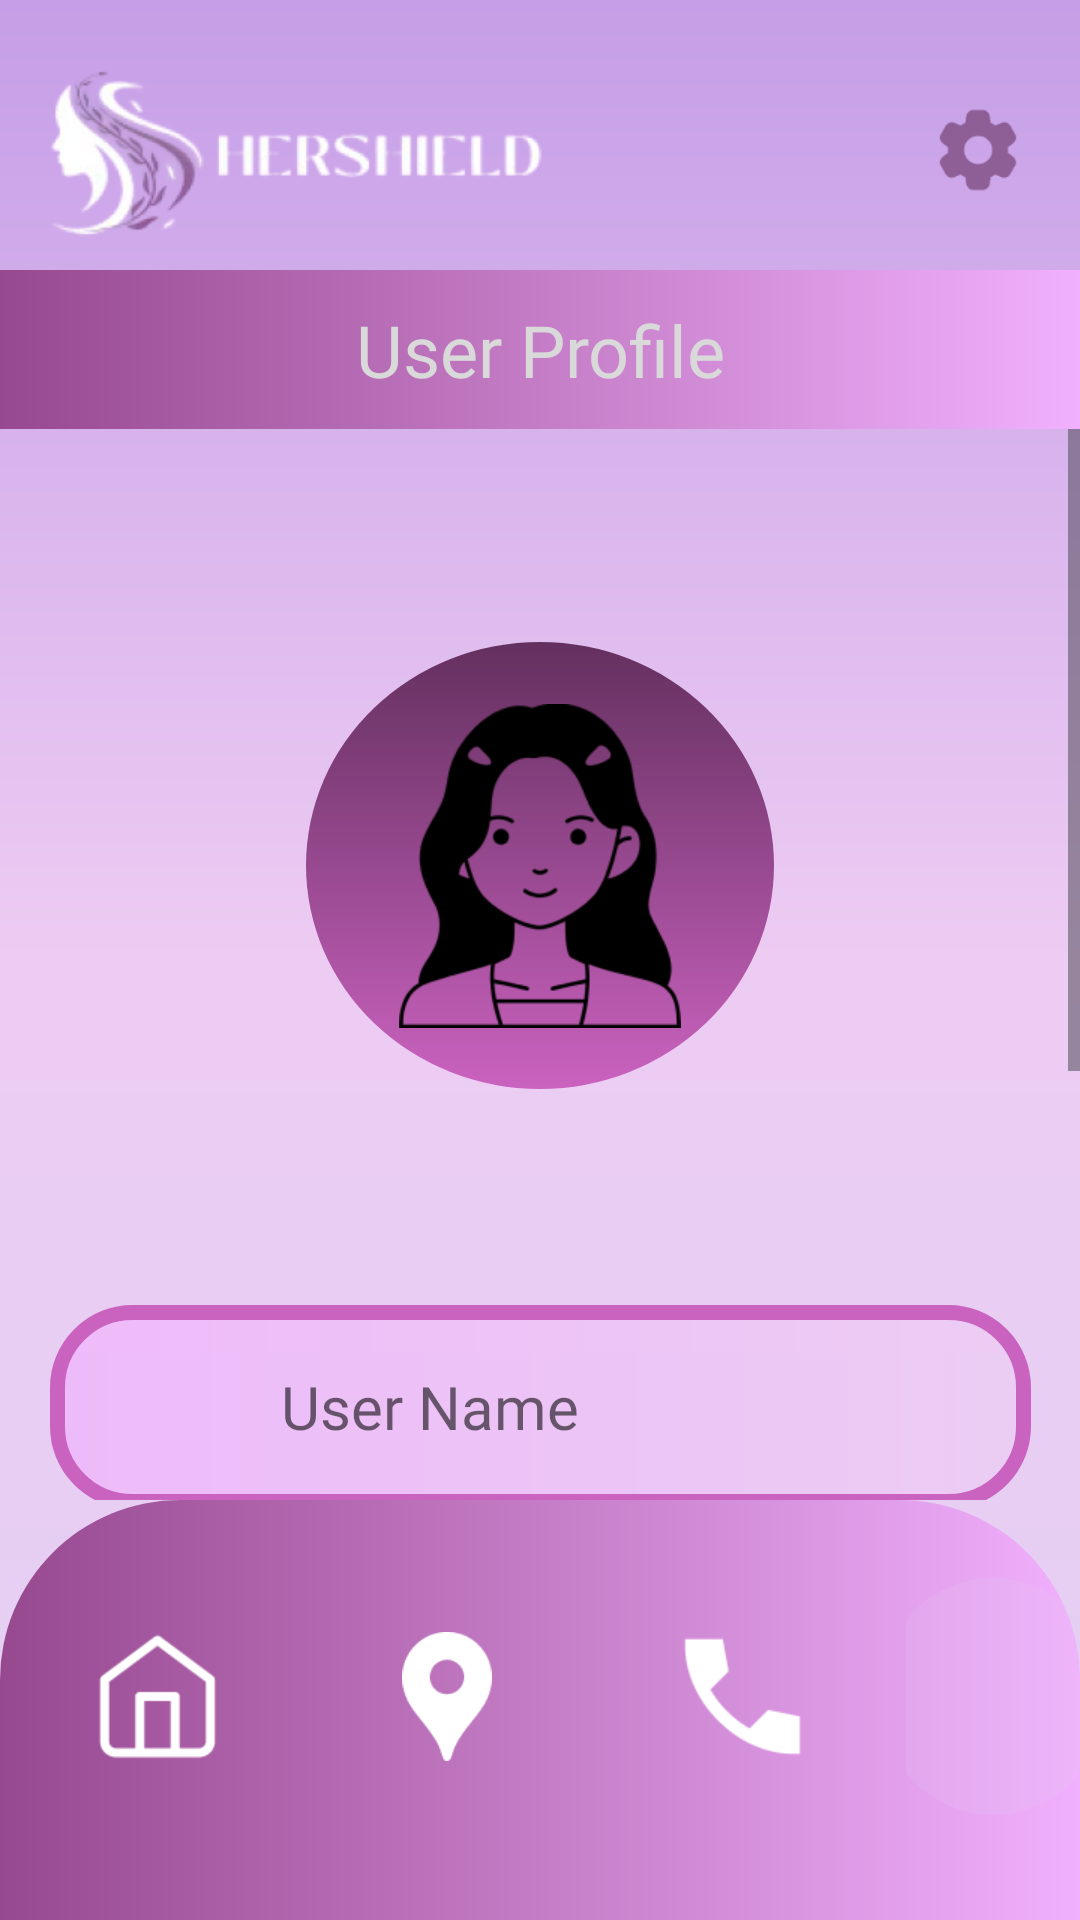

Screen size 1080px×1920px. Icon name, then its box in pixels as (x1, y1, x2, y2):
call: (684, 1620, 906, 1773)
home: (0, 1629, 216, 1764)
location pin: (402, 1632, 492, 1761)
settings: (940, 109, 1016, 191)
